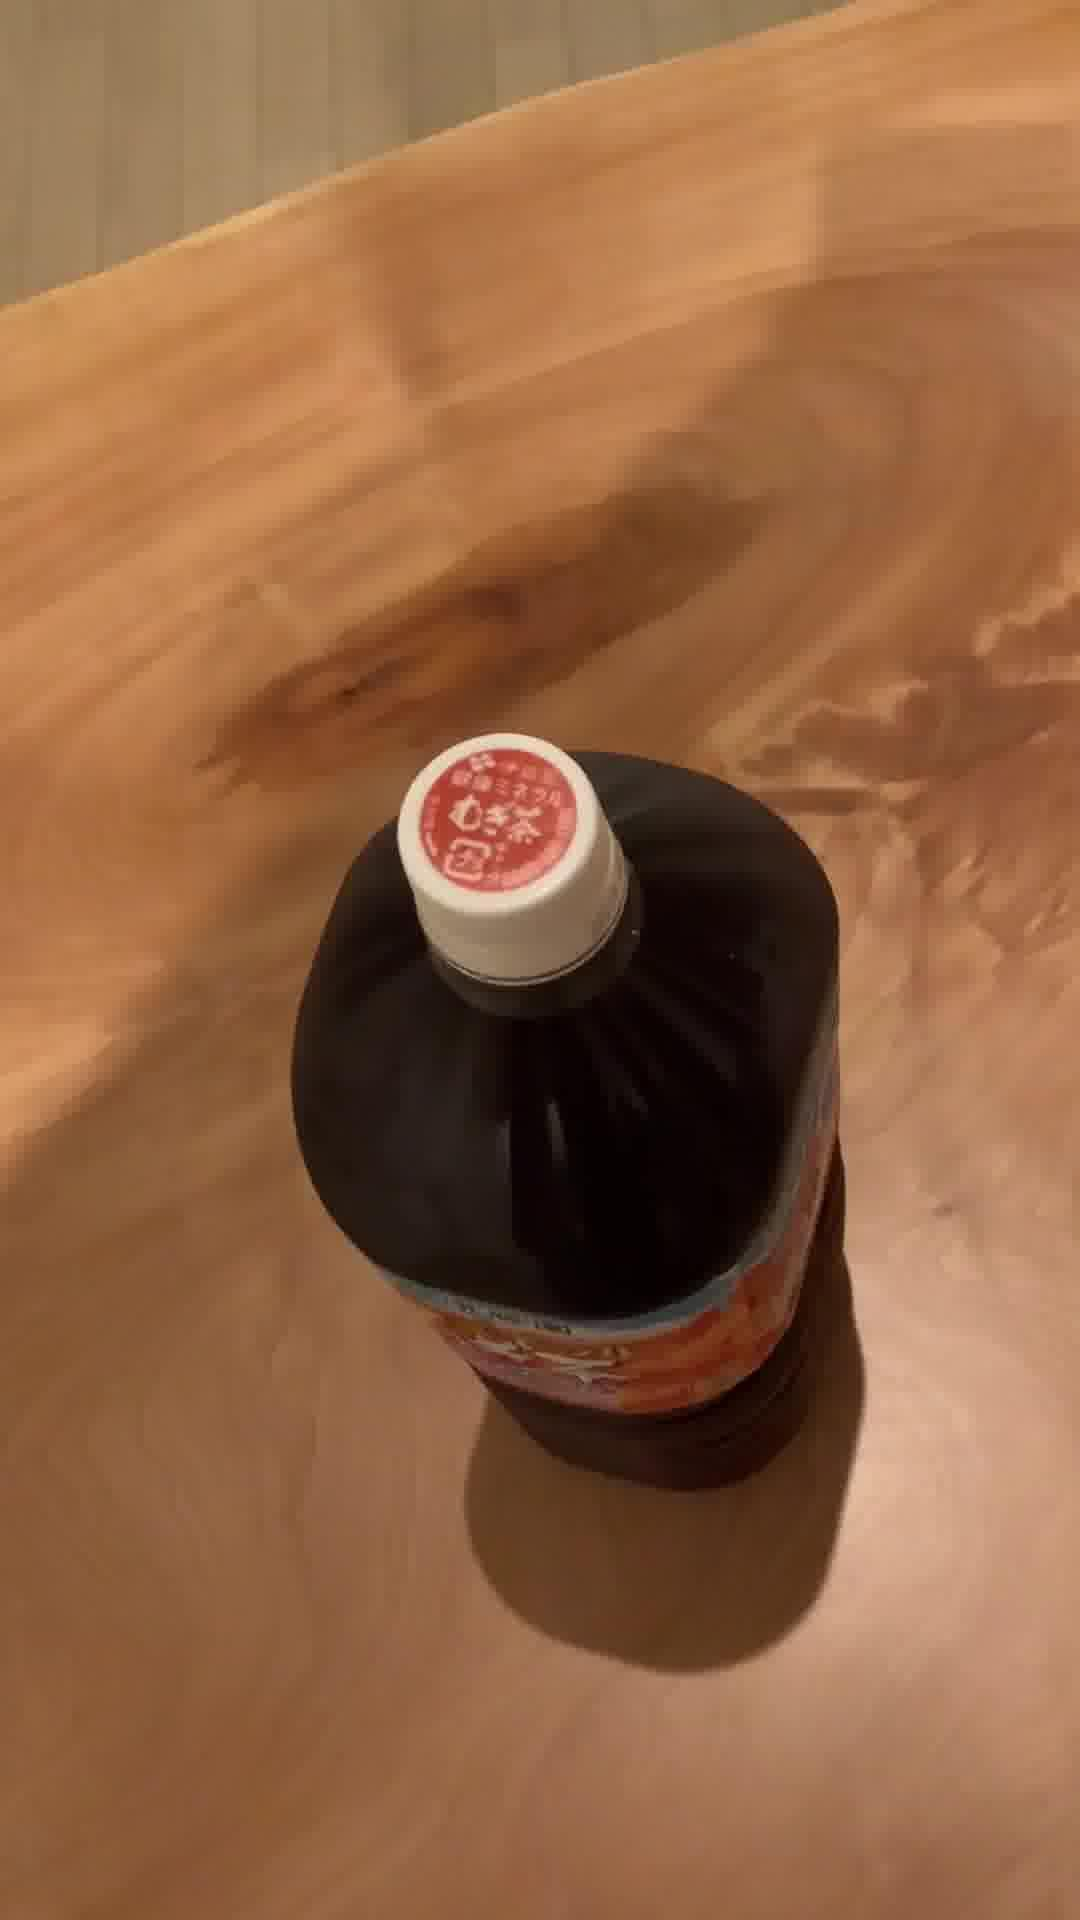BIODEGRADABLE: (281, 716, 856, 1504)
